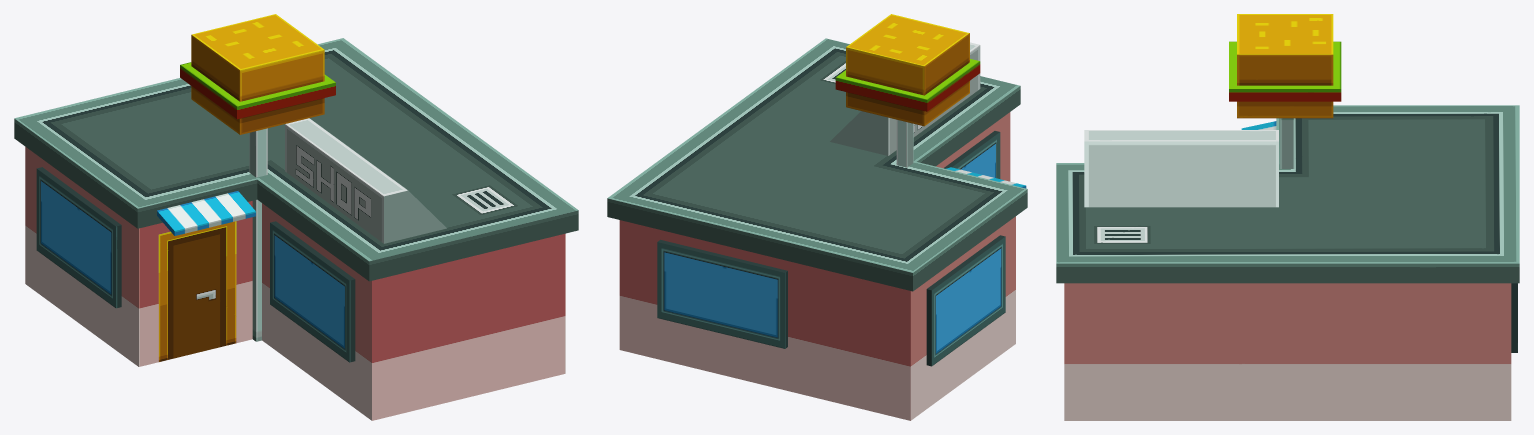
Rendered from shop.FBX.
3 views of the same model, side by side, from view 1: azimuth 30°, elevation 25°; view 2: azimuth 150°, elevation 25°; view 3: azimuth 270°, elevation 25° (orthographic). The views are drawn at different scales.
Visible parts, largest first — view 1: shop:Mesh, shop:sign; view 2: shop:Mesh, shop:sign; view 3: shop:Mesh, shop:sign.
Part boxes in pixels (left/top/right/bottom): shop:Mesh: left=14, top=38, right=578, bottom=420; shop:sign: left=180, top=14, right=335, bottom=341; shop:Mesh: left=607, top=38, right=1027, bottom=420; shop:sign: left=835, top=14, right=980, bottom=167; shop:Mesh: left=1056, top=105, right=1519, bottom=420; shop:sign: left=1229, top=14, right=1341, bottom=168.
Bounding box in the file's own units: 488 × 421 × 604.
